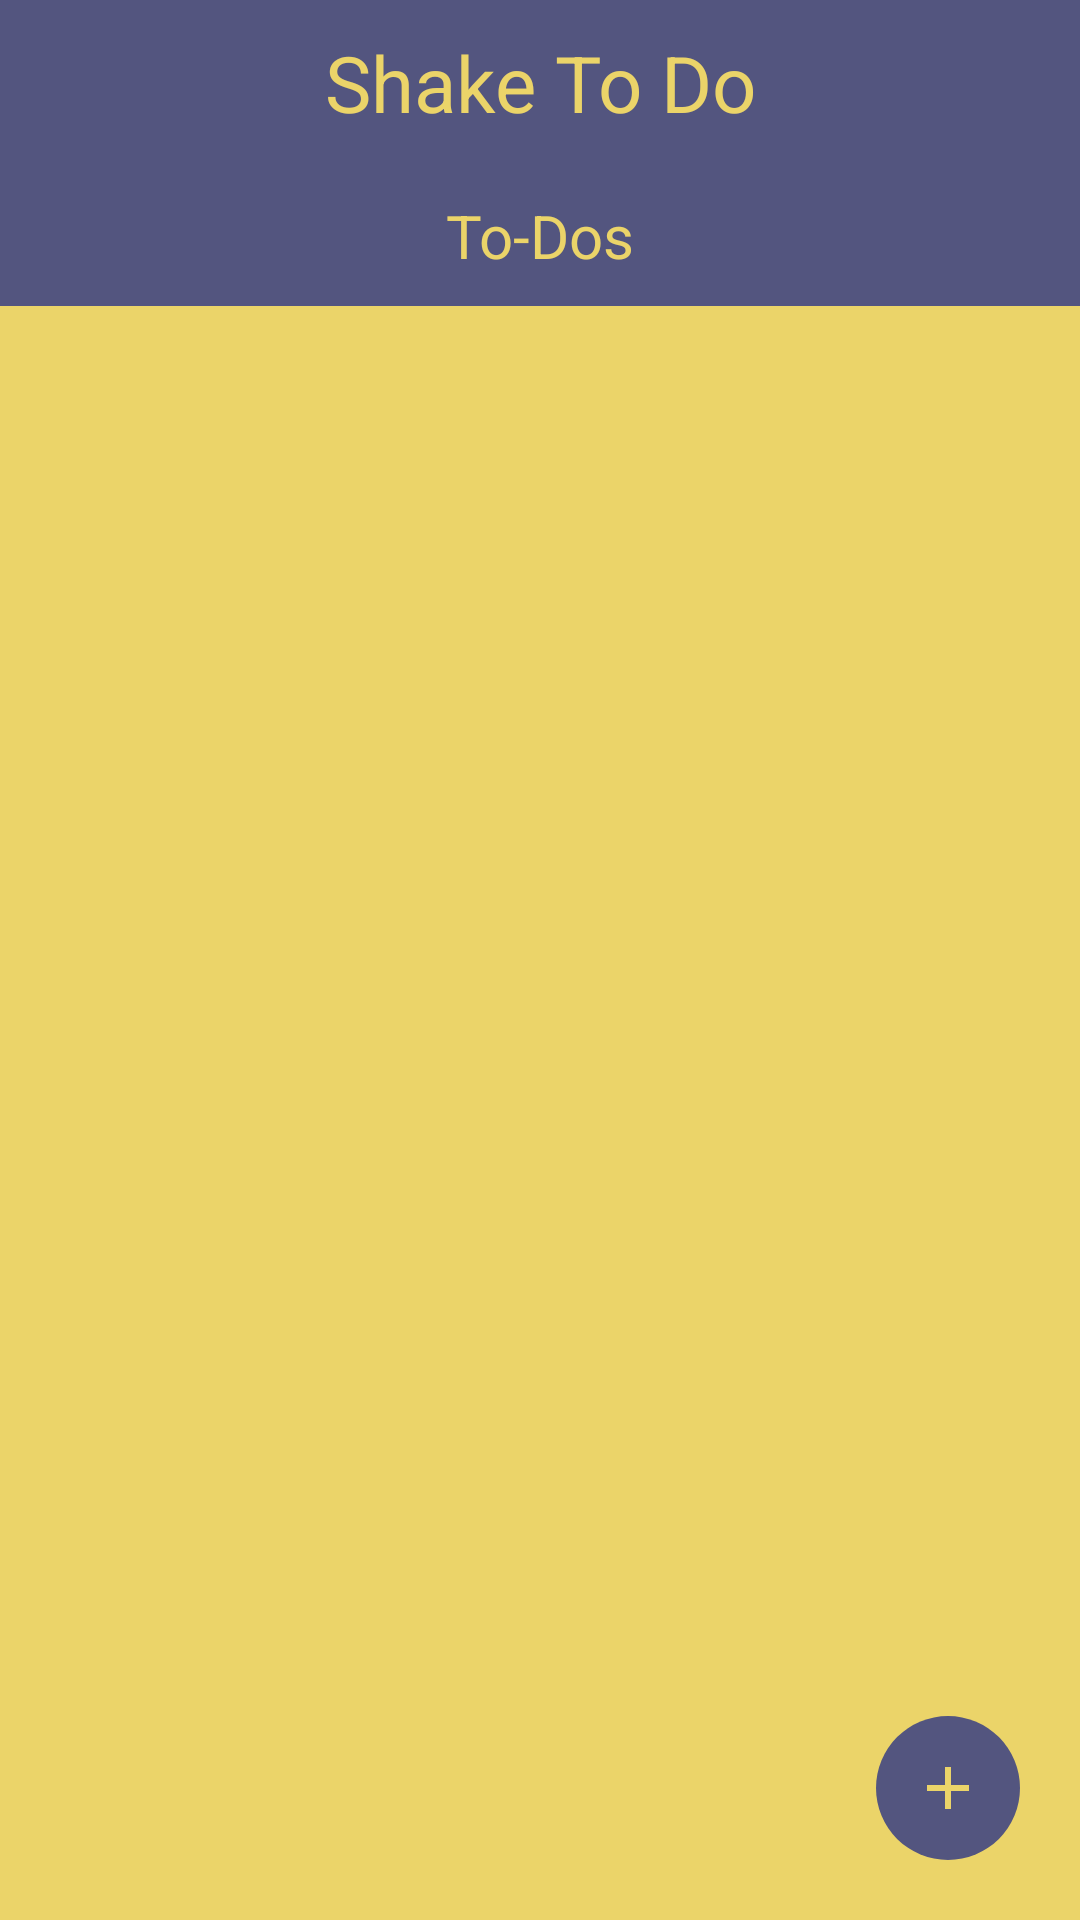

Icons on this 1080×1920 Android screen, each with its box as (x1, y1, x2, y2):
plus: (927, 1767, 969, 1809)
